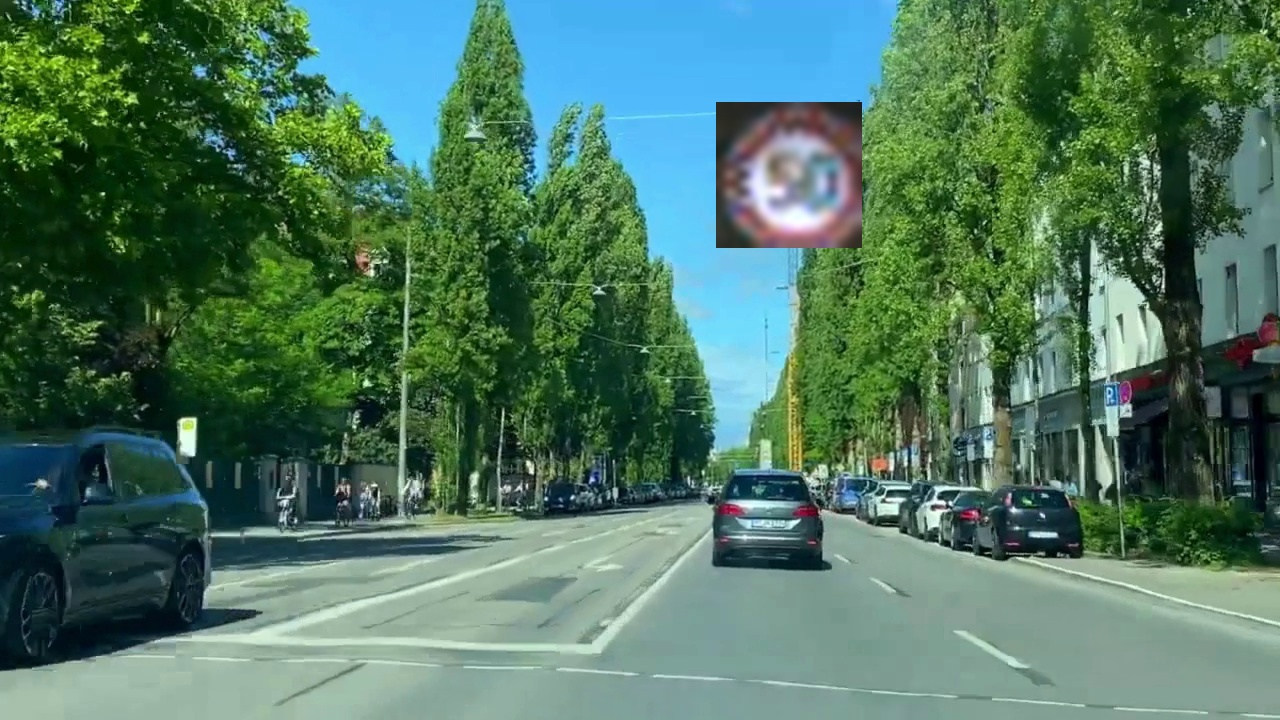Speed 50: (716, 102, 862, 248)
